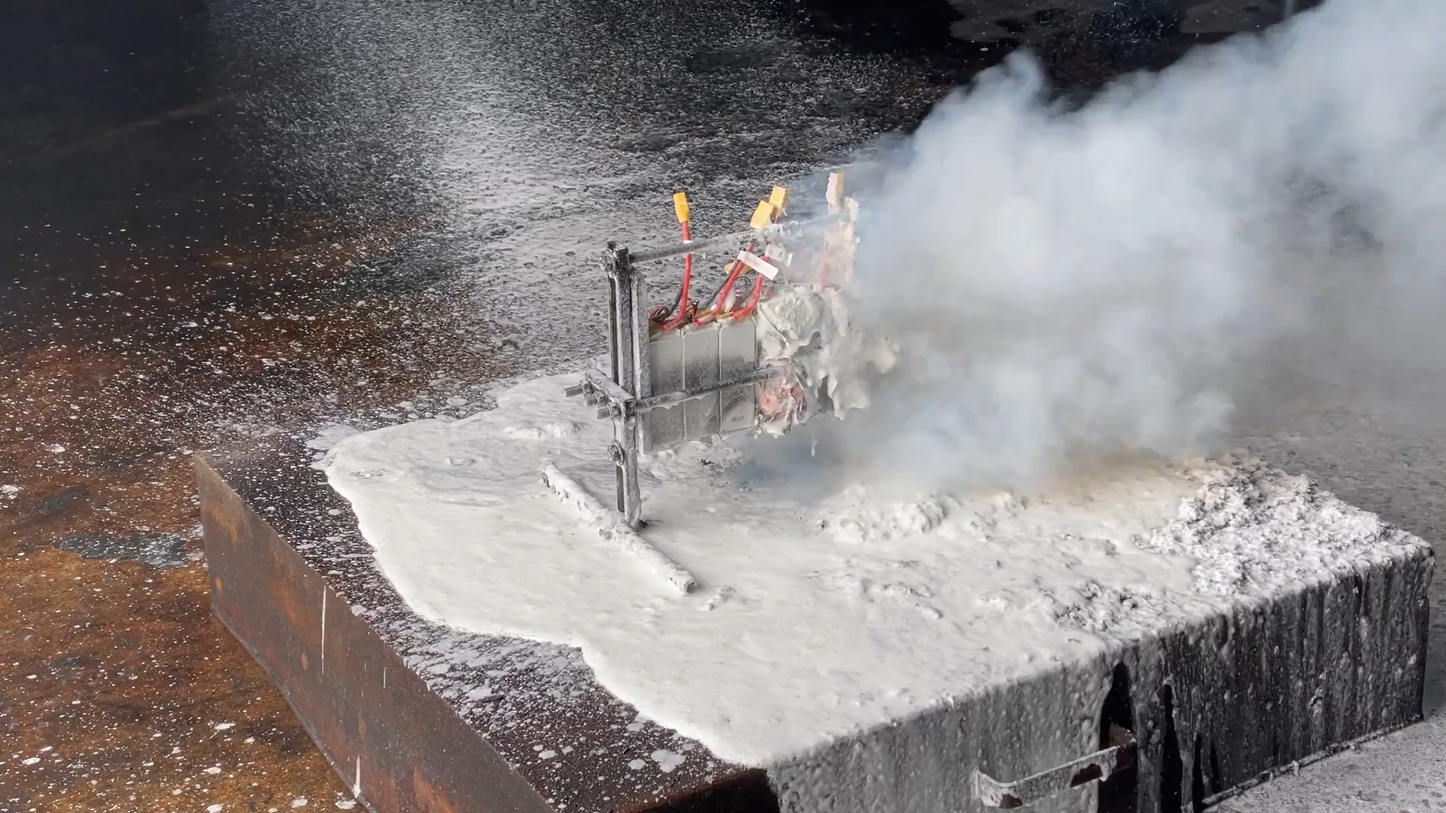smoke: (765, 0, 1446, 489)
